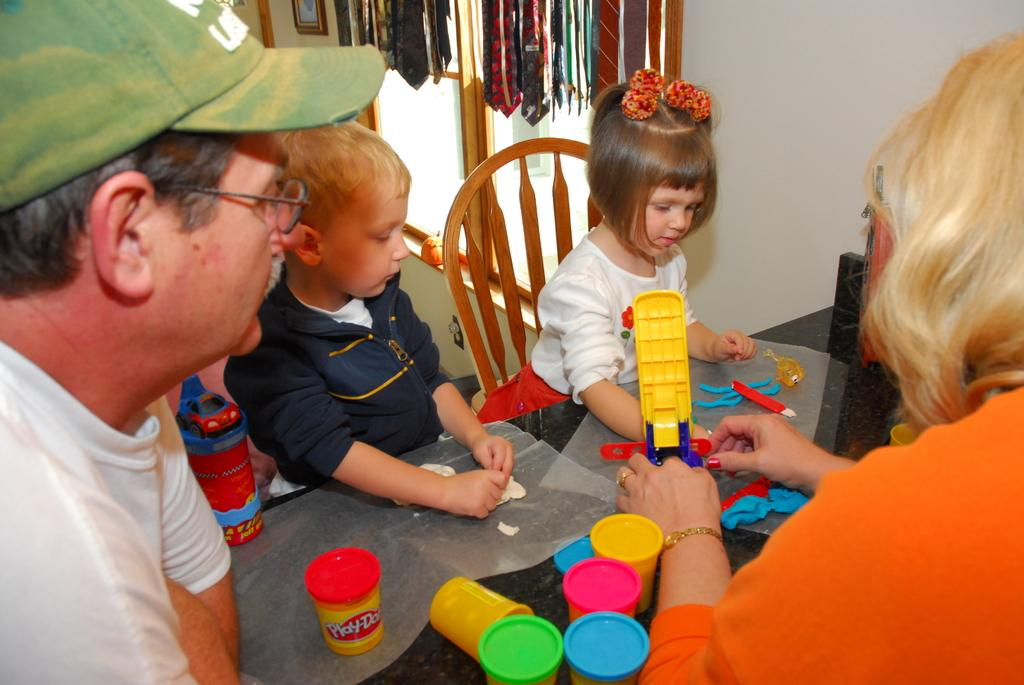Hat: (0, 0, 384, 212)
